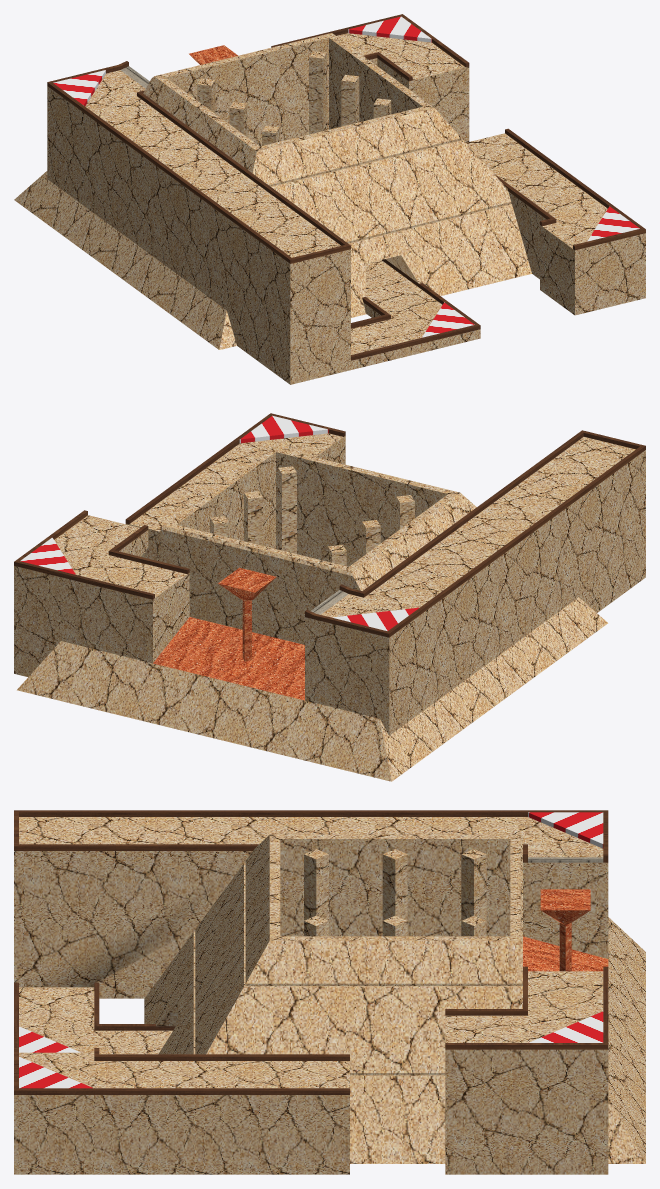
Rendered from Stage2-10.gltf.
The picture shows the model from 3 angles, top to bottom: view 1: azimuth 30°, elevation 25°; view 2: azimuth 150°, elevation 25°; view 3: azimuth 270°, elevation 25°; orthographic projection. The views are drawn at different scales.
Parts seen in each view (by area): view 1: Cube; view 2: Cube; view 3: Cube.
Boxes of the visible parts, x1,y1,x2,y2 form: Cube: [14, 14, 645, 384]; Cube: [14, 413, 645, 781]; Cube: [14, 810, 645, 1174].
Size of the model in its own units: 21 by 7.5 by 25.2.
12 materials, 12 textured.
